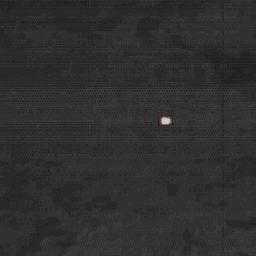Target: (159, 116, 173, 125)
